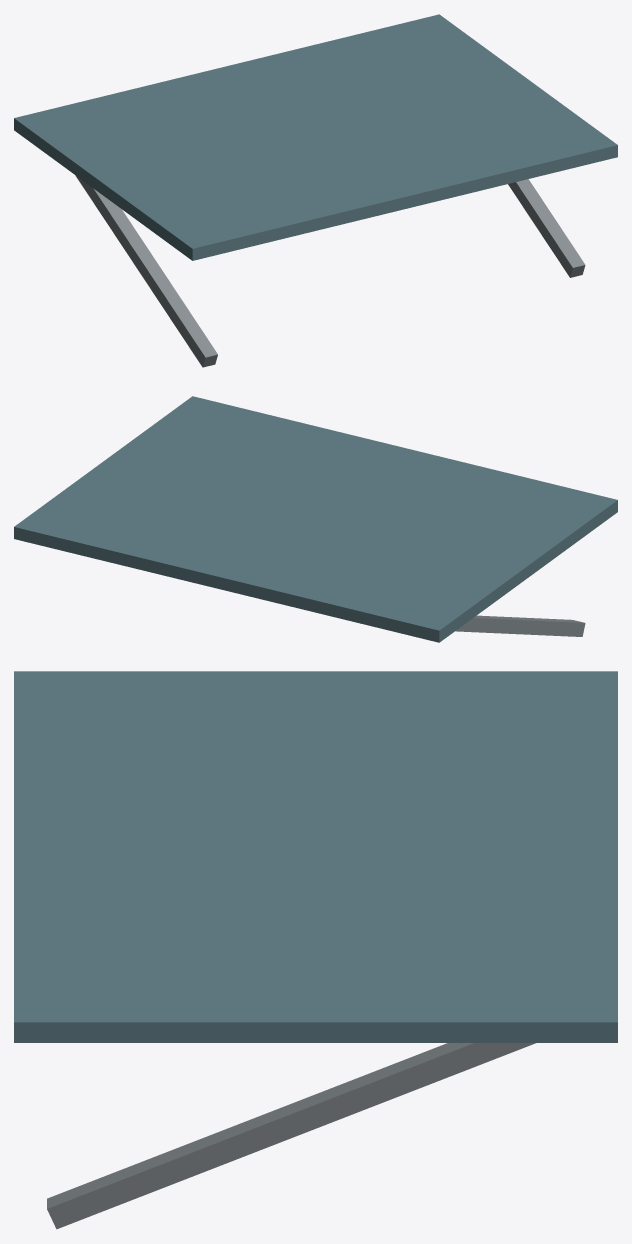
The picture shows the model from 3 angles, top to bottom: view 1: azimuth 30°, elevation 25°; view 2: azimuth 150°, elevation 25°; view 3: azimuth 270°, elevation 25°; orthographic projection. The views are drawn at different scales.
Visible parts, largest first — view 1: QH-A0098_V02_geometry; view 2: QH-A0098_V02_geometry; view 3: QH-A0098_V02_geometry.
Boxes of the visible parts, left/top/right/bottom form: QH-A0098_V02_geometry: left=14, top=14, right=617, bottom=367; QH-A0098_V02_geometry: left=14, top=396, right=617, bottom=642; QH-A0098_V02_geometry: left=14, top=671, right=617, bottom=1229.
Size of the model in its own units: 2.2 by 0.6599 by 1.6.
